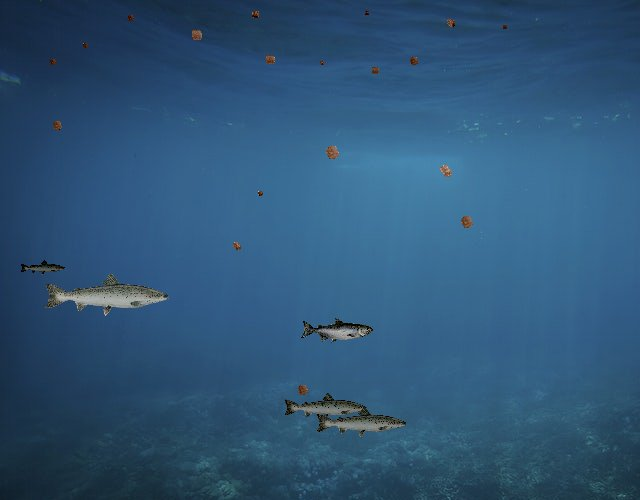Fish: (42, 271, 171, 317), (315, 405, 409, 439), (282, 391, 368, 422), (301, 317, 374, 343), (20, 260, 67, 277)
Pellet: (432, 158, 459, 185), (454, 209, 479, 235), (185, 24, 208, 47), (292, 379, 314, 401), (228, 237, 245, 255), (124, 11, 138, 24), (254, 188, 266, 200)
